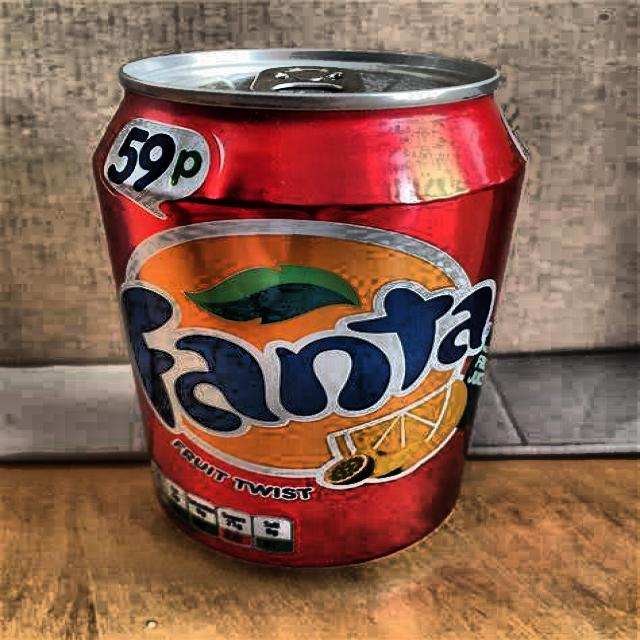Cans: (77, 42, 524, 572)
